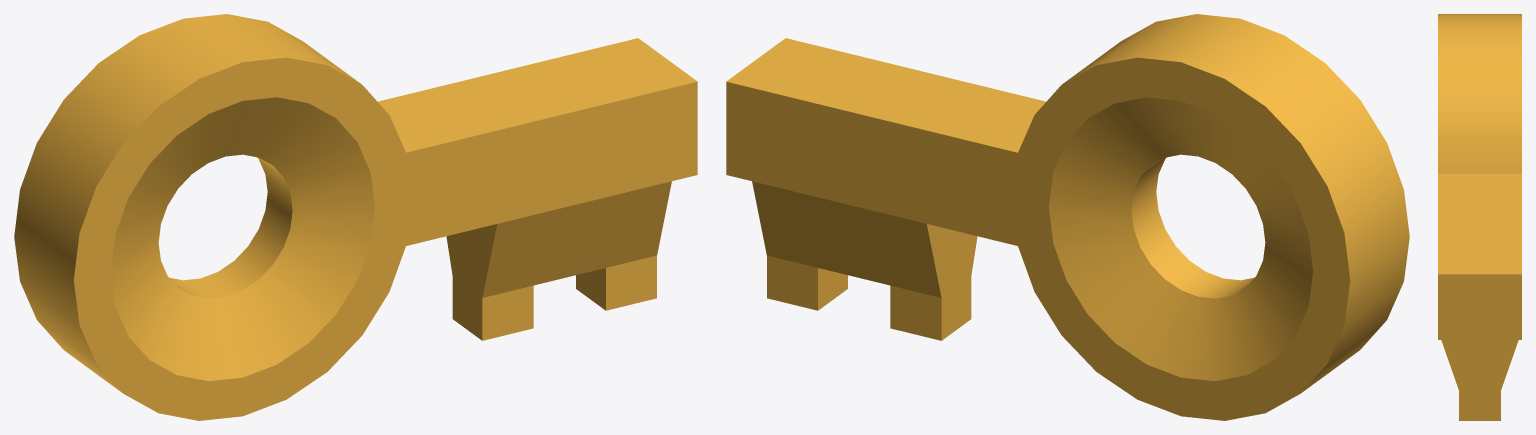
The model's file is key.obj.
3 renders of one model, left to right at view 1: azimuth 30°, elevation 25°; view 2: azimuth 150°, elevation 25°; view 3: azimuth 270°, elevation 25°, orthographic. The views are drawn at different scales.
Parts seen in each view (by area): view 1: key; view 2: key; view 3: key.
Part boxes in pixels (bbox=[...]): key: bbox=[14, 14, 697, 420]; key: bbox=[726, 14, 1409, 420]; key: bbox=[1438, 14, 1521, 420].
Bounding box in the file's own units: 0.4107 × 0.2227 × 0.0679.
